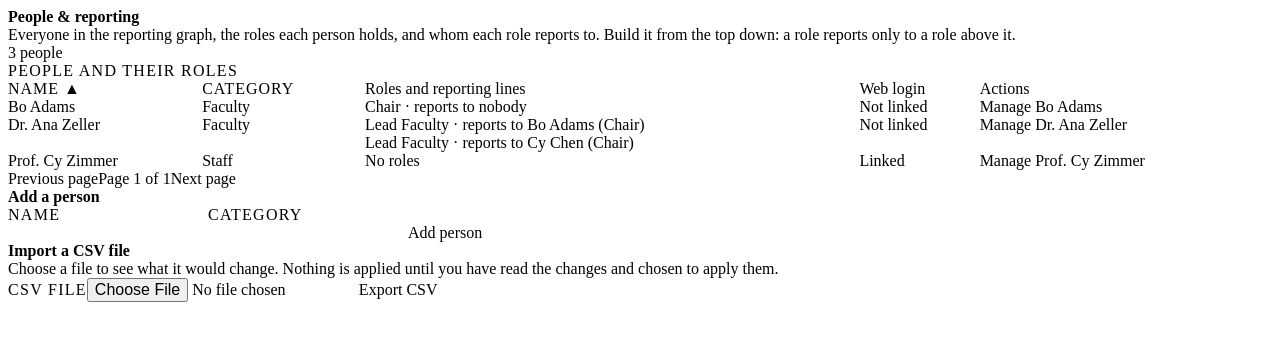
Test case: the person panel › adds a person from the form
Expected: the table with test id "pulse-admin-people-table" is shown, [8,62,1272,170]
Type "Eve Ng" into the field labelled "Name" at (108, 233), box [8,224,208,242]
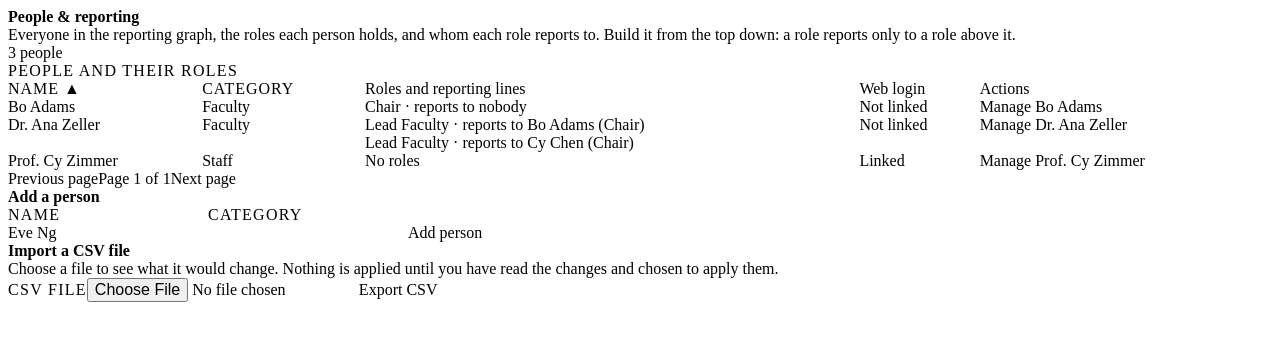
Type "Staff" into the field labelled "Category" at (308, 233), box [208,224,408,242]
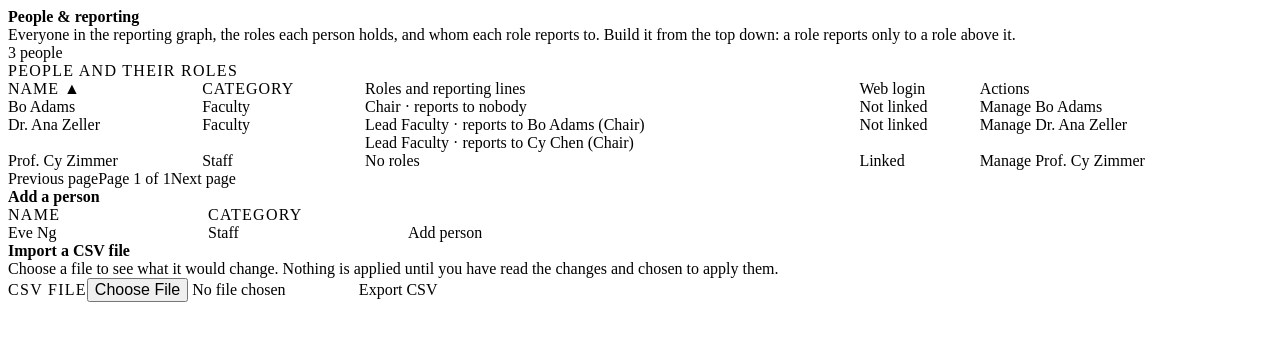
Click the button "Add person" at (445, 233), box [408,224,482,242]
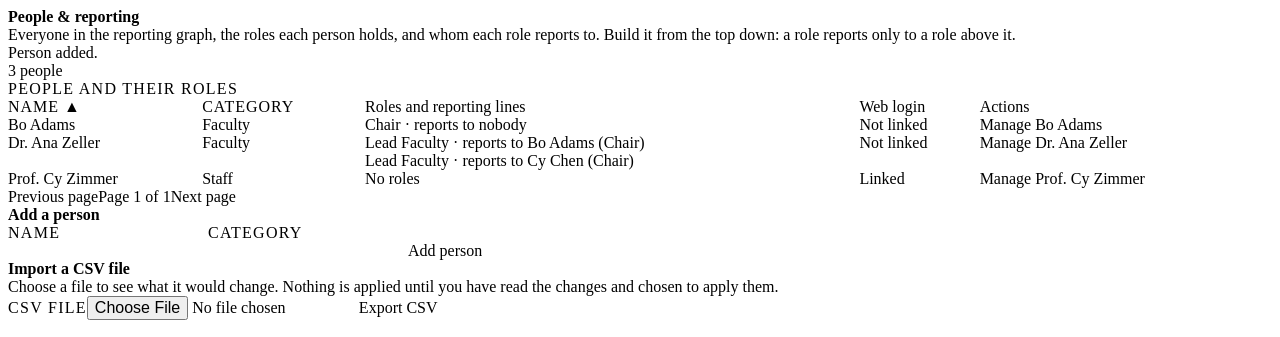
Expected: the message reads "Person added.", [8,44,98,61]
